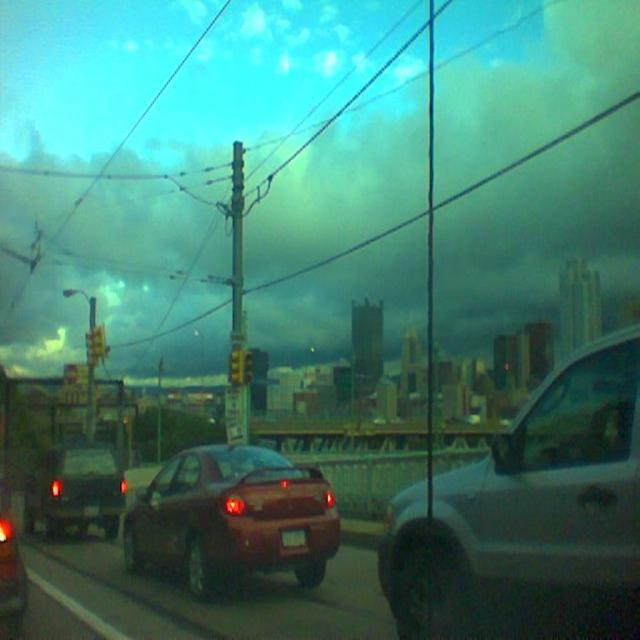off traffic light: (229, 341, 252, 384), (86, 324, 107, 367)
